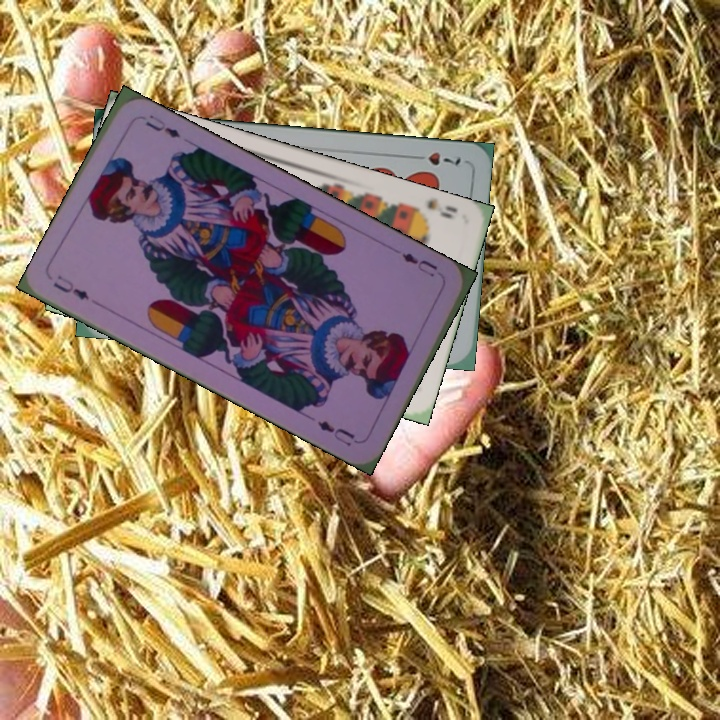EU: (49, 271, 93, 303), (397, 248, 440, 280)
H7: (407, 148, 463, 169)
S9: (405, 195, 460, 222)
